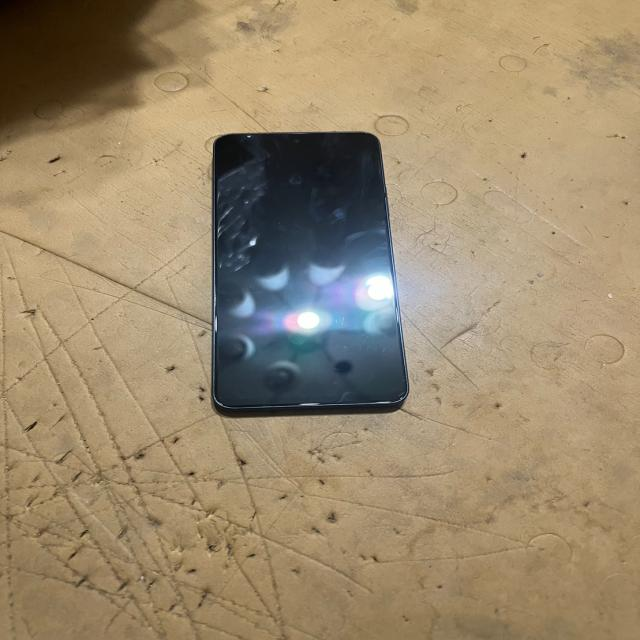Smartphone: (198, 124, 432, 423)
